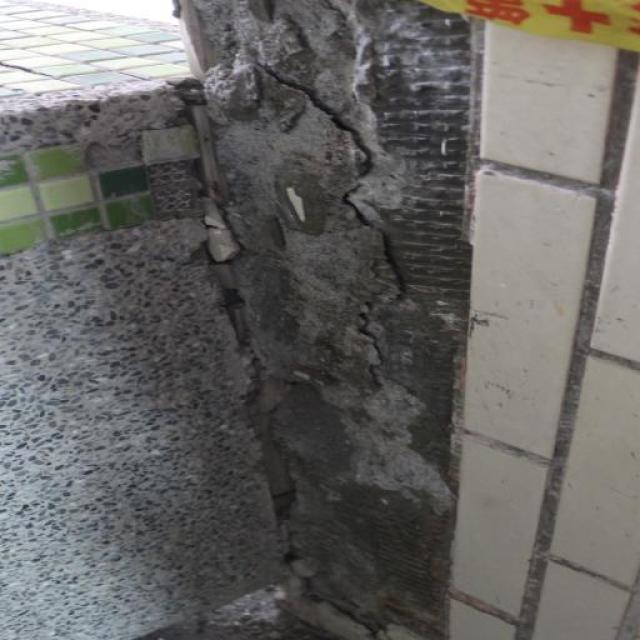D10: (192, 0, 472, 639)
